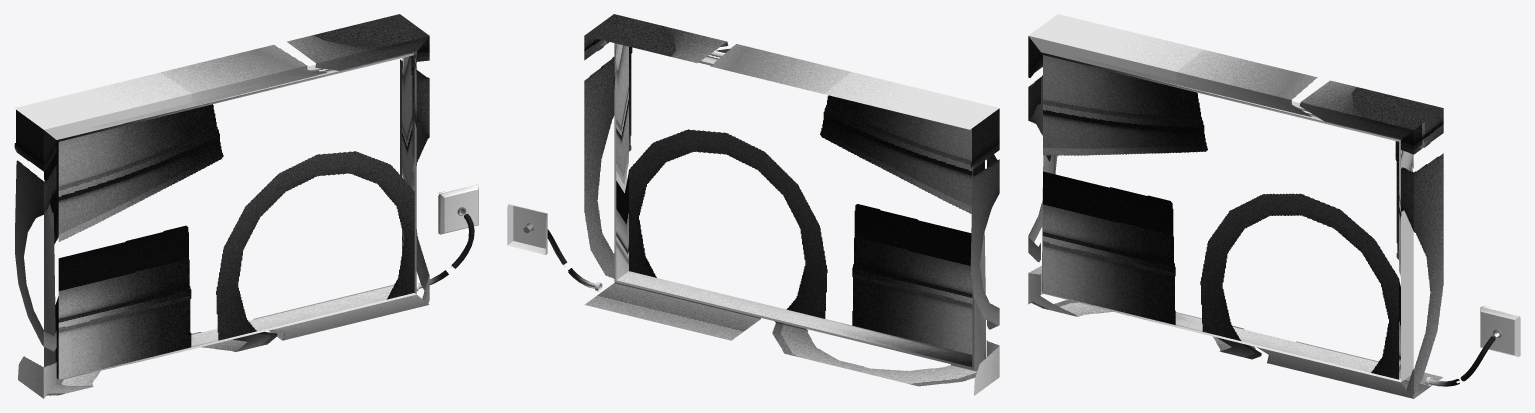
Rendered from light.obj.
3 views of the same model, side by side, from view 1: azimuth 30°, elevation 25°; view 2: azimuth 150°, elevation 25°; view 3: azimuth 330°, elevation 25° (orthographic).
Size of the model in its own units: 3.6 by 2 by 0.4026.
